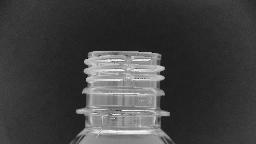No Cap: (65, 47, 175, 119)
